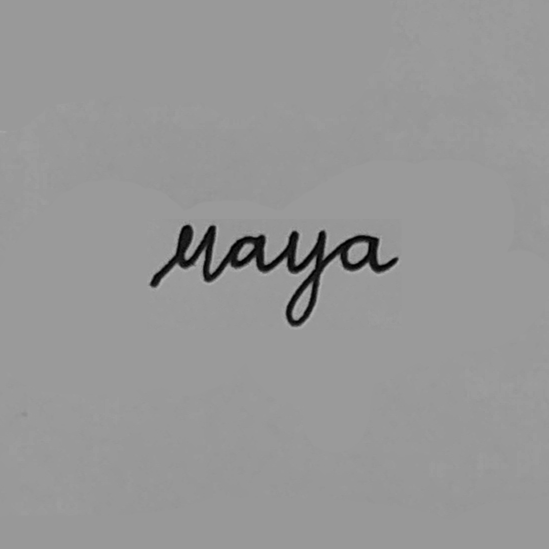a: (225, 227, 273, 275), (335, 230, 386, 275)
r: (146, 220, 219, 291)
y: (278, 226, 330, 329)
